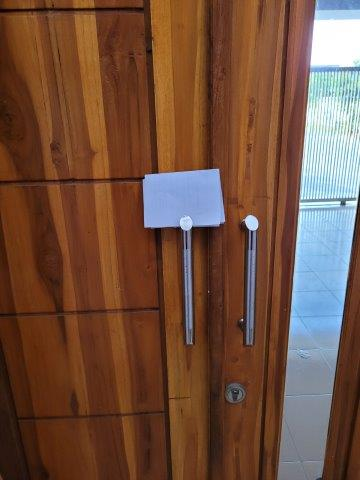kertas: (143, 169, 224, 227)
